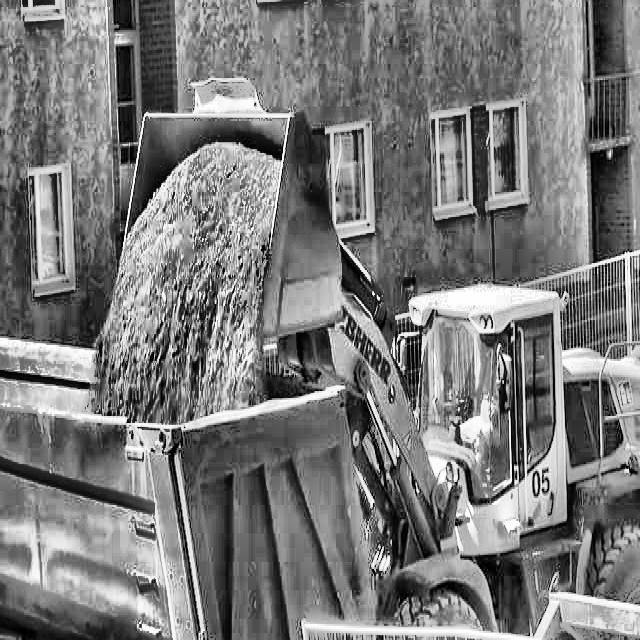buldozerpayloadergrader: (121, 73, 640, 640)
dump_truck: (0, 311, 380, 640)
